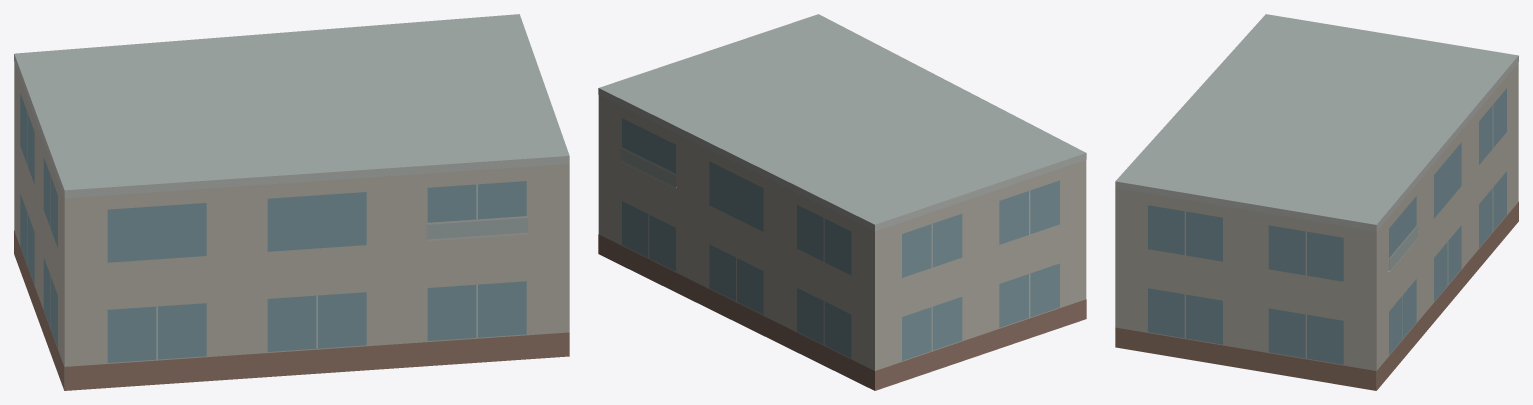
Rendered from survey-upis-32527388.glb.
The picture shows the model from 3 angles, left to right: view 1: azimuth 30°, elevation 25°; view 2: azimuth 150°, elevation 25°; view 3: azimuth 270°, elevation 25°; orthographic projection. The views are drawn at different scales.
Parts seen in each view (by area): view 1: survey-upis-32527388.tmp; view 2: survey-upis-32527388.tmp; view 3: survey-upis-32527388.tmp.
Boxes of the visible parts, <box> form: survey-upis-32527388.tmp: <box>14,14,569,390</box>; survey-upis-32527388.tmp: <box>598,14,1086,390</box>; survey-upis-32527388.tmp: <box>1115,14,1518,390</box>.
Bounding box in the file's own units: 16.63 × 6.1 × 13.45.
